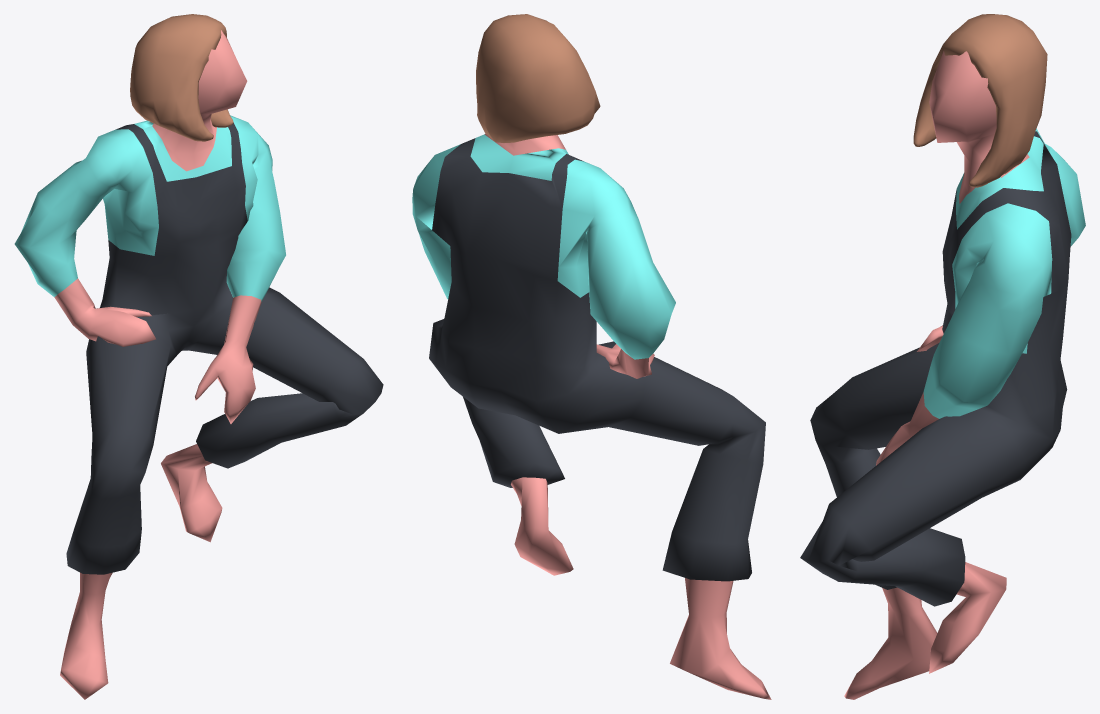
Rendered from mujerEscena.glb.
3 renders of one model, left to right at view 1: azimuth 30°, elevation 25°; view 2: azimuth 150°, elevation 25°; view 3: azimuth 270°, elevation 25°, orthographic. The views are drawn at different scales.
Visible parts, largest first — view 1: GirlSit_00, GirlSit_03, GirlSit_02, GirlSit_01; view 2: GirlSit_00, GirlSit_03, GirlSit_01, GirlSit_02; view 3: GirlSit_00, GirlSit_03, GirlSit_02, GirlSit_01.
Part boxes in pixels (box(x1,y1,x2,y2)): GirlSit_00: box(66, 123, 383, 574); GirlSit_03: box(14, 115, 285, 301); GirlSit_02: box(54, 30, 261, 699); GirlSit_01: box(130, 14, 233, 141); GirlSit_00: box(429, 138, 765, 581); GirlSit_03: box(412, 134, 675, 359); GirlSit_01: box(476, 14, 600, 142); GirlSit_02: box(484, 134, 771, 699); GirlSit_00: box(800, 131, 1071, 606); GirlSit_03: box(923, 128, 1085, 418); GirlSit_02: box(844, 51, 1029, 699); GirlSit_01: box(913, 14, 1047, 187).
Bounding box in the file's own units: 0.0833 × 0.1584 × 0.053.
